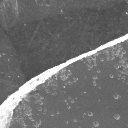corrosion: (90, 75, 99, 88), (112, 111, 122, 122), (19, 104, 30, 114), (92, 119, 102, 128), (60, 73, 69, 82), (112, 90, 120, 100), (86, 109, 95, 117), (113, 63, 121, 71), (91, 60, 99, 67), (37, 106, 44, 113), (108, 72, 115, 79), (106, 51, 113, 58), (118, 49, 125, 55), (55, 109, 61, 116), (66, 104, 72, 110), (62, 98, 68, 103), (65, 120, 69, 125), (62, 86, 67, 90), (82, 90, 87, 94)
